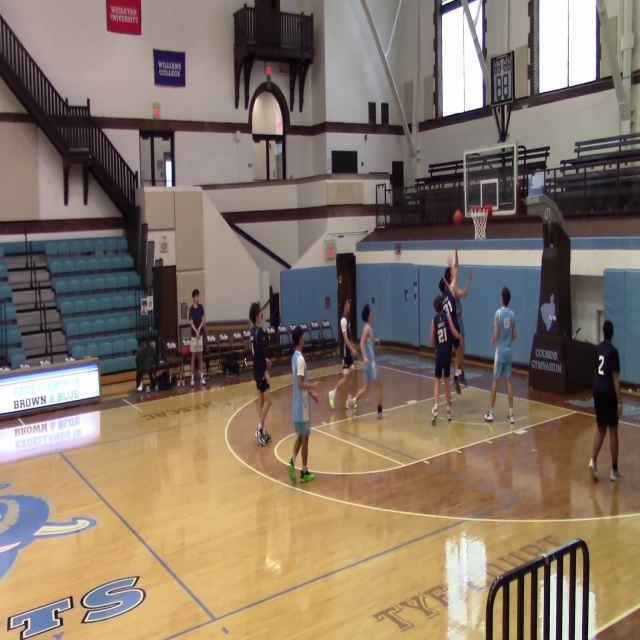Basketball: (453, 210, 464, 225), (433, 296, 443, 310), (180, 345, 190, 357), (446, 256, 453, 268)
